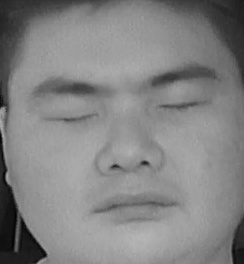blink: (41, 100, 100, 135), (157, 87, 206, 122)
mouth: (90, 182, 179, 228)
